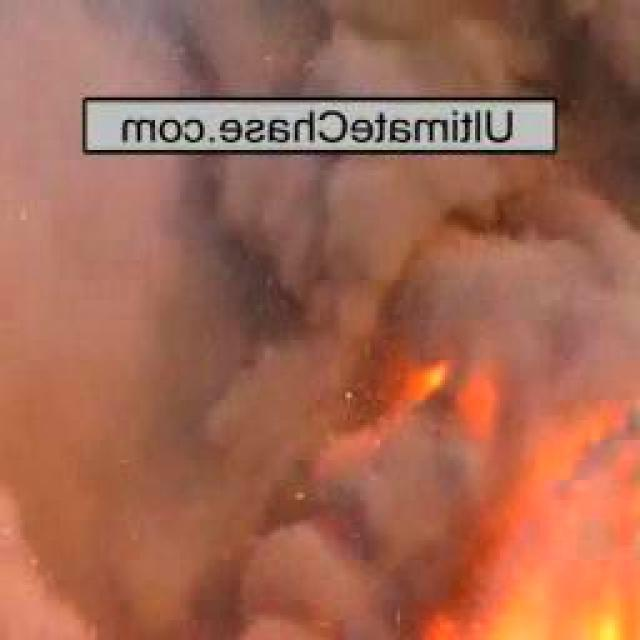Fire: (365, 330, 640, 640)
